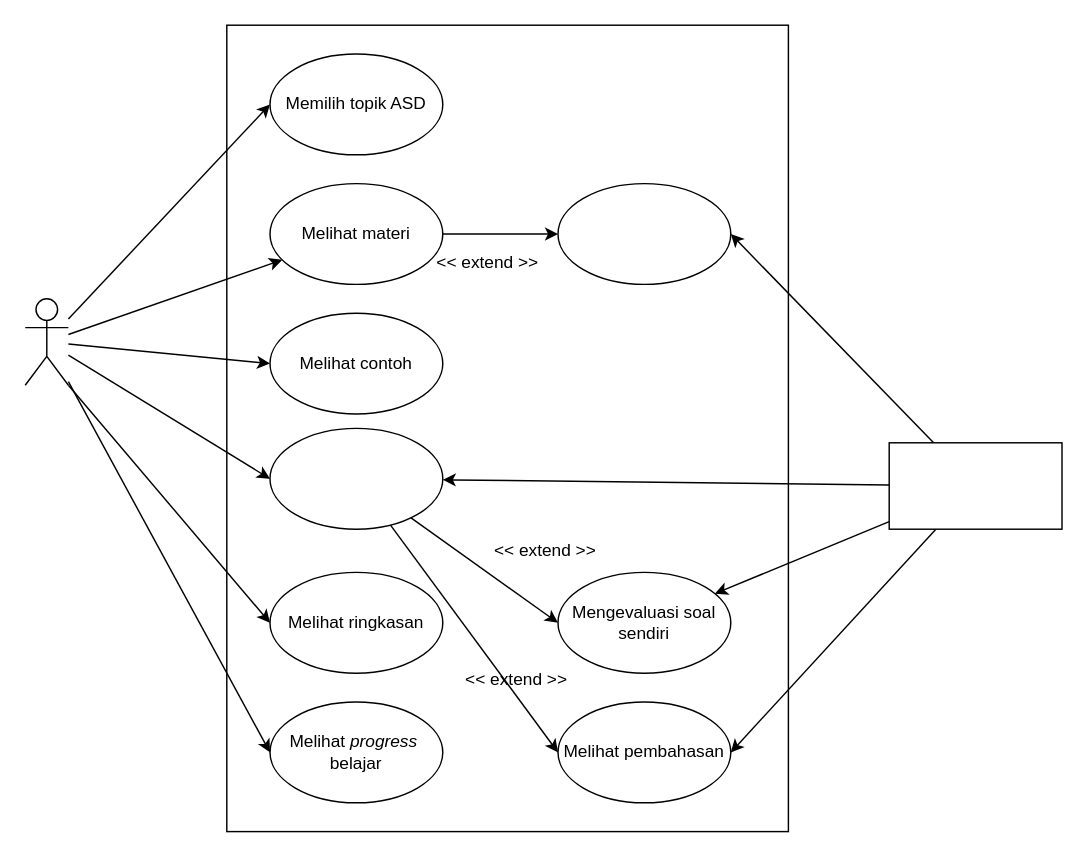
Image size: 1087x857. Some labels were removed from this diagram. The centre of each missing label's shape, as x and y in pixels:
Bertanya kepada asisten materi: (x=644, y=233)
Mengerjakan latihan: (x=356, y=478)
User: (x=46, y=341)
«LLM» OpenAI API: (x=975, y=485)
